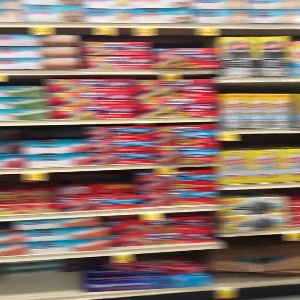void: (1, 260, 80, 296)
